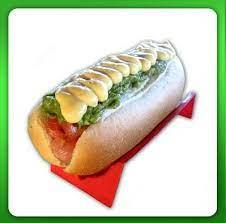Completos: (28, 34, 190, 172)
